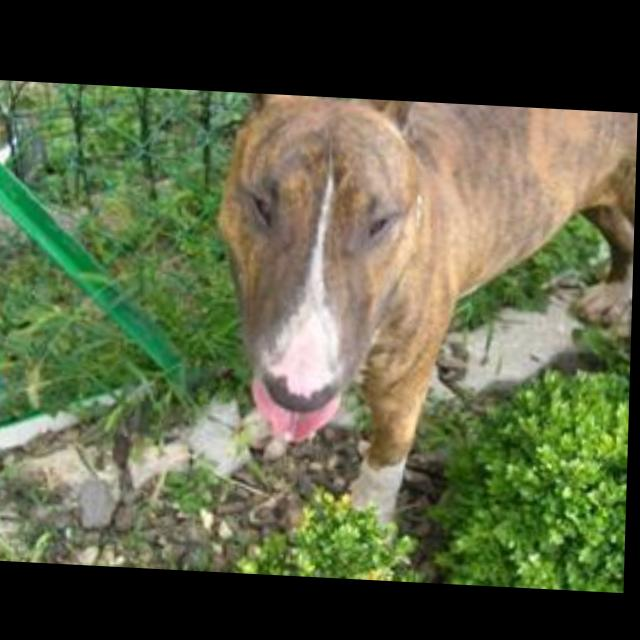bullterrier: (211, 90, 639, 541)
